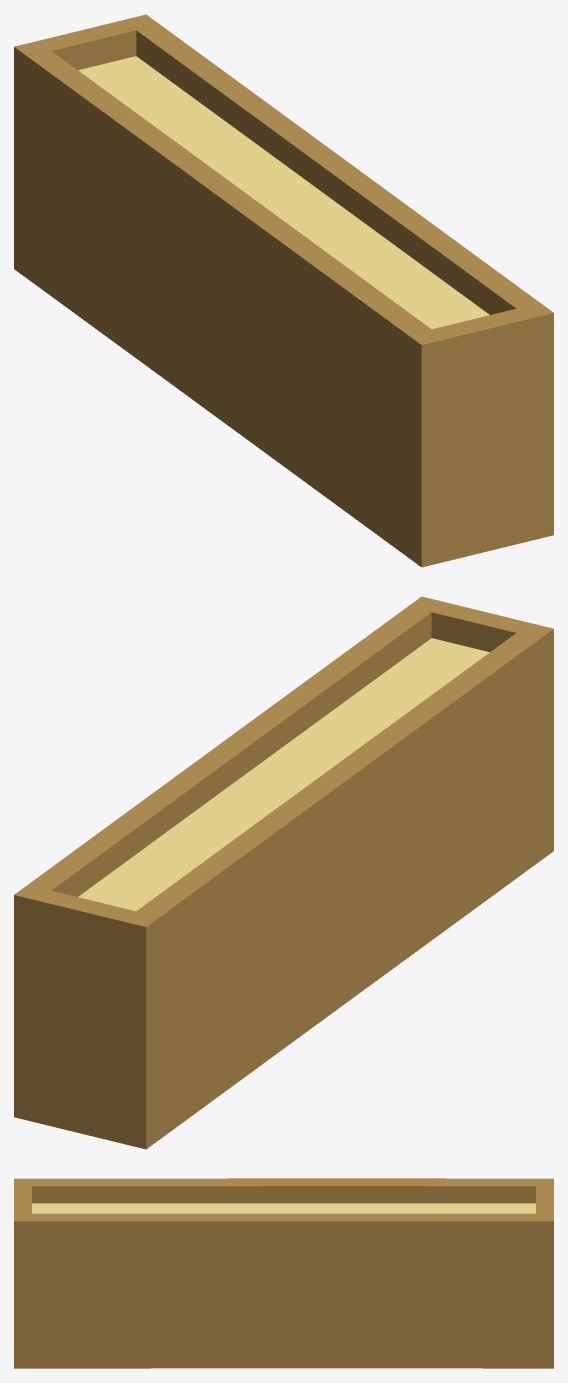
Rendered from socle_stick.fbx.
3 views of the same model, one above another, from view 1: azimuth 30°, elevation 25°; view 2: azimuth 150°, elevation 25°; view 3: azimuth 270°, elevation 25° (orthographic). The views are drawn at different scales.
Parts seen in each view (by area): view 1: Support stick; view 2: Support stick; view 3: Support stick.
Part boxes in pixels (bbox=[...]): Support stick: bbox=[14, 14, 553, 567]; Support stick: bbox=[14, 596, 553, 1149]; Support stick: bbox=[14, 1178, 553, 1368].
Bounding box in the file's own units: 15.26 × 24.52 × 81.47.
